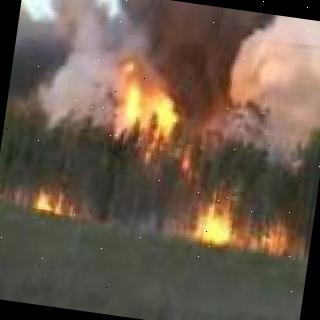fire: (102, 54, 188, 154), (194, 198, 242, 242), (261, 214, 297, 258), (33, 189, 69, 214)
